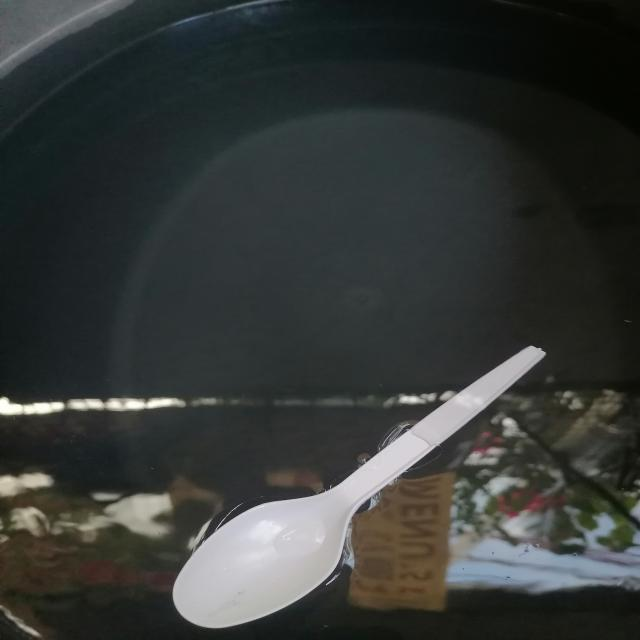Plastic Spoon: (143, 328, 572, 640)
